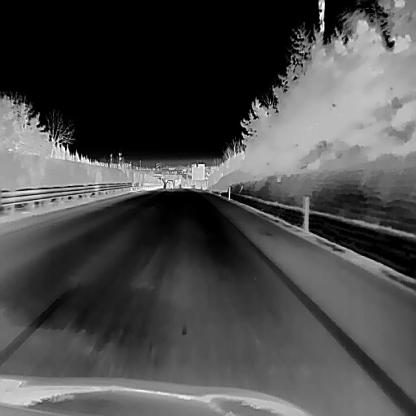car: (165, 178, 173, 188)
